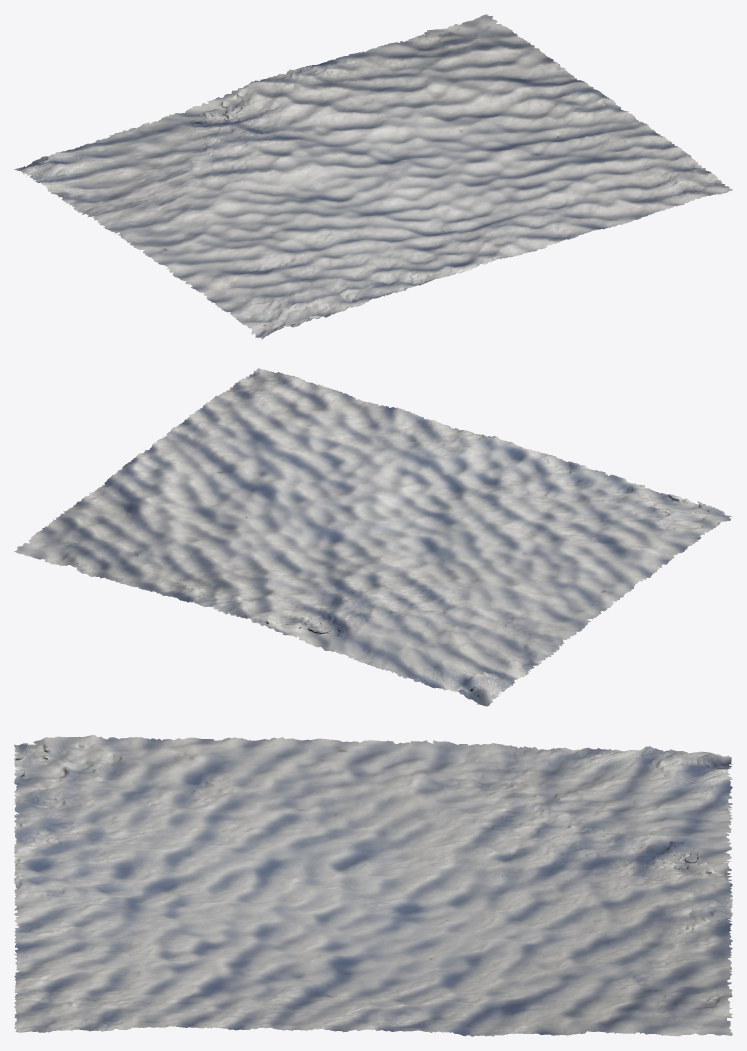
File: Snow.glb
The picture shows the model from 3 angles, top to bottom: view 1: azimuth 30°, elevation 25°; view 2: azimuth 150°, elevation 25°; view 3: azimuth 270°, elevation 25°; orthographic projection. The views are drawn at different scales.
Parts seen in each view (by area): view 1: Object_3; view 2: Object_3; view 3: Object_3.
Part boxes in pixels (x1,y1,x2,y2): Object_3: (14, 14, 732, 339); Object_3: (14, 368, 732, 706); Object_3: (14, 735, 732, 1036).
Size of the model in its own units: 10 by 0.9566 by 8.96.
1 material, 1 textured.
